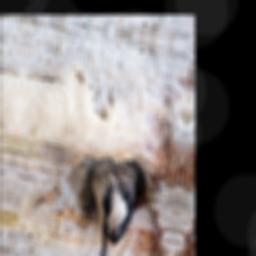Woodpecker: (81, 156, 142, 256)
